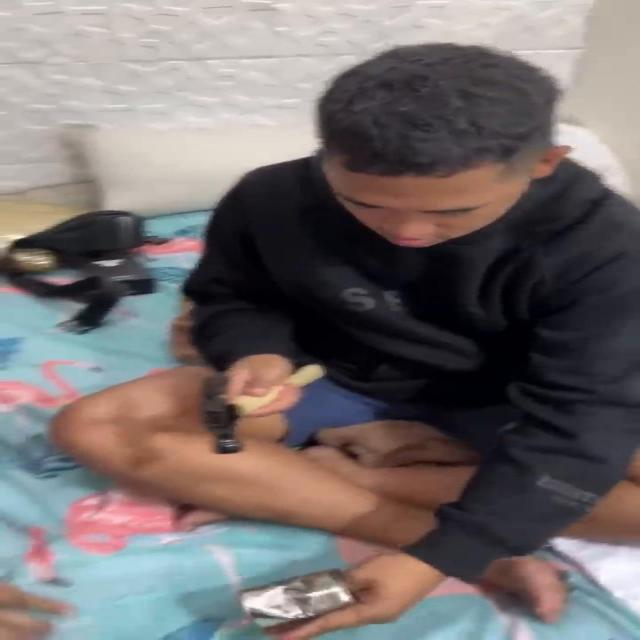hammer: (200, 364, 327, 455)
